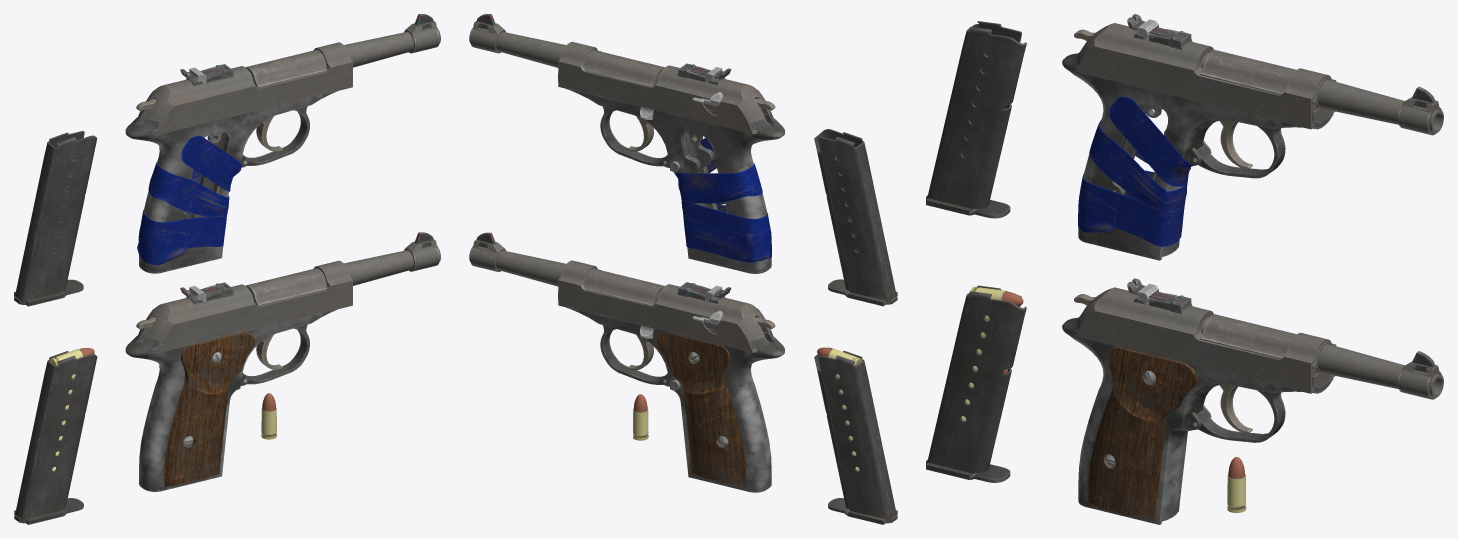
The model's file is service_pistol.glb.
The picture shows the model from 3 angles, left to right: view 1: azimuth 30°, elevation 25°; view 2: azimuth 150°, elevation 25°; view 3: azimuth 330°, elevation 25°; orthographic projection. The views are drawn at different scales.
Visible parts, largest first — view 1: service_pistol_pistol_b, service_pistol_pistol_a, service_pistol_magazine_loaded, service_pistol_magazine_empty, service_pistol_slide_a, service_pistol_slide_b, service_pistol_bullet; view 2: service_pistol_pistol_b, service_pistol_pistol_a, service_pistol_magazine_loaded, service_pistol_magazine_empty, service_pistol_slide_a, service_pistol_slide_b, service_pistol_bullet; view 3: service_pistol_pistol_a, service_pistol_pistol_b, service_pistol_magazine_loaded, service_pistol_magazine_empty, service_pistol_slide_b, service_pistol_slide_a, service_pistol_bullet, service_pistol_trigger_b, service_pistol_trigger_a.
Part boxes in pixels (x1,y1,x2,y2): service_pistol_pistol_b: (125, 14, 440, 273); service_pistol_pistol_a: (125, 232, 440, 491); service_pistol_magazine_loaded: (14, 348, 97, 524); service_pistol_magazine_empty: (14, 131, 97, 306); service_pistol_slide_a: (141, 260, 352, 352); service_pistol_slide_b: (141, 42, 352, 134); service_pistol_bullet: (261, 393, 276, 439); service_pistol_pistol_b: (469, 14, 784, 273); service_pistol_pistol_a: (469, 232, 784, 492); service_pistol_magazine_loaded: (814, 347, 897, 524); service_pistol_magazine_empty: (814, 129, 897, 306); service_pistol_slide_a: (558, 260, 772, 352); service_pistol_slide_b: (558, 41, 772, 133); service_pistol_bullet: (633, 394, 648, 440); service_pistol_pistol_a: (1062, 314, 1443, 524); service_pistol_pistol_b: (1062, 50, 1443, 260); service_pistol_magazine_loaded: (926, 285, 1026, 482); service_pistol_magazine_empty: (926, 21, 1026, 218); service_pistol_slide_b: (1075, 14, 1336, 129); service_pistol_slide_a: (1075, 278, 1336, 393); service_pistol_bullet: (1227, 457, 1246, 512); service_pistol_trigger_b: (1220, 120, 1252, 169); service_pistol_trigger_a: (1220, 384, 1252, 433).
Size of the model in its own units: 0.3016 by 0.2807 by 0.0318.
1 material, 1 textured.
